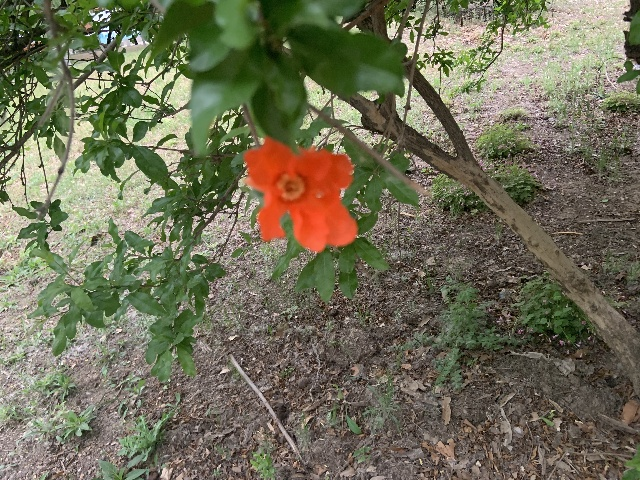flower: (243, 135, 357, 252)
